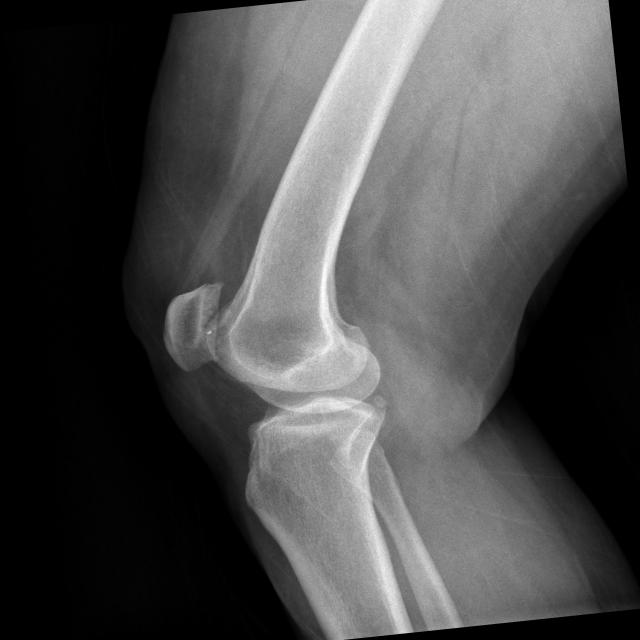Knee: (152, 257, 392, 487)
